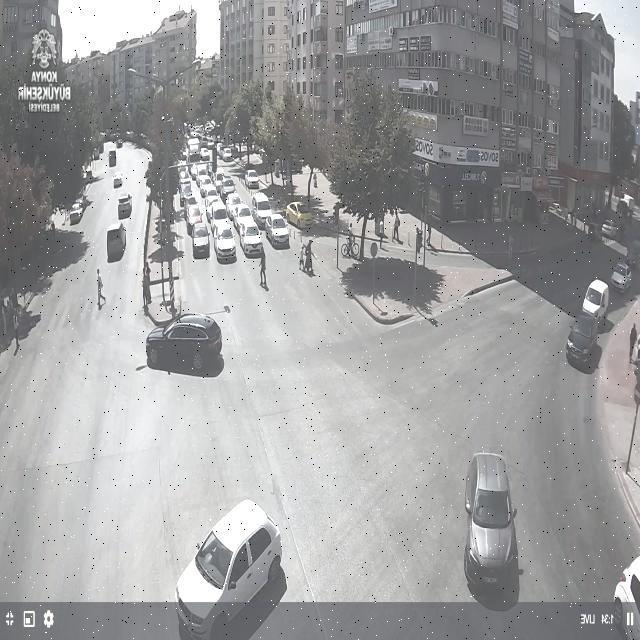Car: (174, 500, 282, 636), (463, 452, 517, 590), (147, 314, 223, 371), (613, 551, 640, 637), (566, 317, 602, 369), (582, 279, 610, 326), (238, 222, 264, 257), (264, 214, 291, 247), (285, 201, 314, 230), (214, 226, 237, 261), (250, 194, 273, 227), (106, 221, 127, 257), (233, 210, 257, 238), (610, 260, 632, 290), (192, 224, 210, 257), (185, 205, 204, 233), (208, 199, 228, 224), (226, 192, 245, 216), (117, 192, 132, 218), (183, 192, 200, 214), (201, 182, 218, 202), (69, 202, 84, 224), (220, 178, 237, 196), (179, 184, 193, 205), (245, 170, 260, 188), (214, 177, 227, 196), (197, 164, 210, 181), (221, 148, 233, 162)
